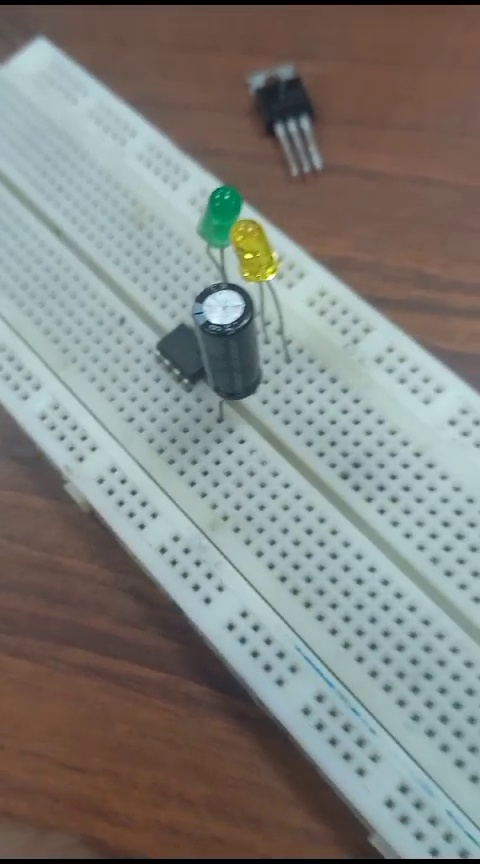IC: (138, 323, 215, 389)
LED: (224, 220, 280, 307), (196, 179, 238, 263)
capacitor: (186, 283, 266, 403)
voltage regulator: (235, 59, 339, 188)
